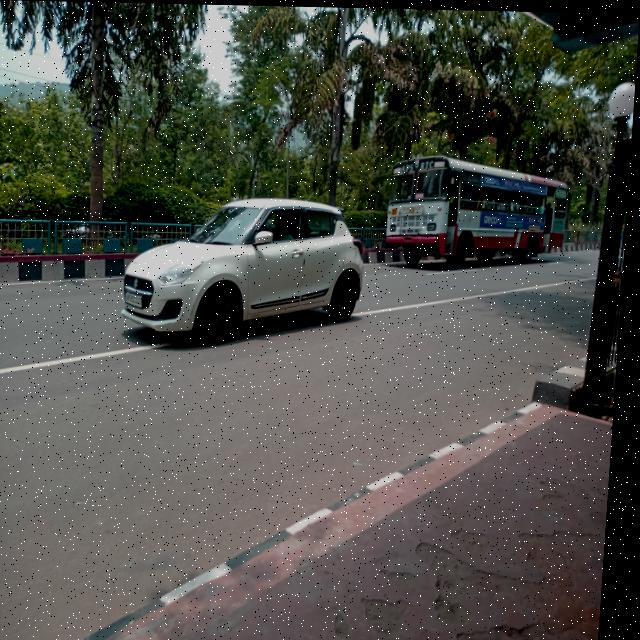bus: (380, 152, 586, 265)
car: (122, 187, 377, 343)
